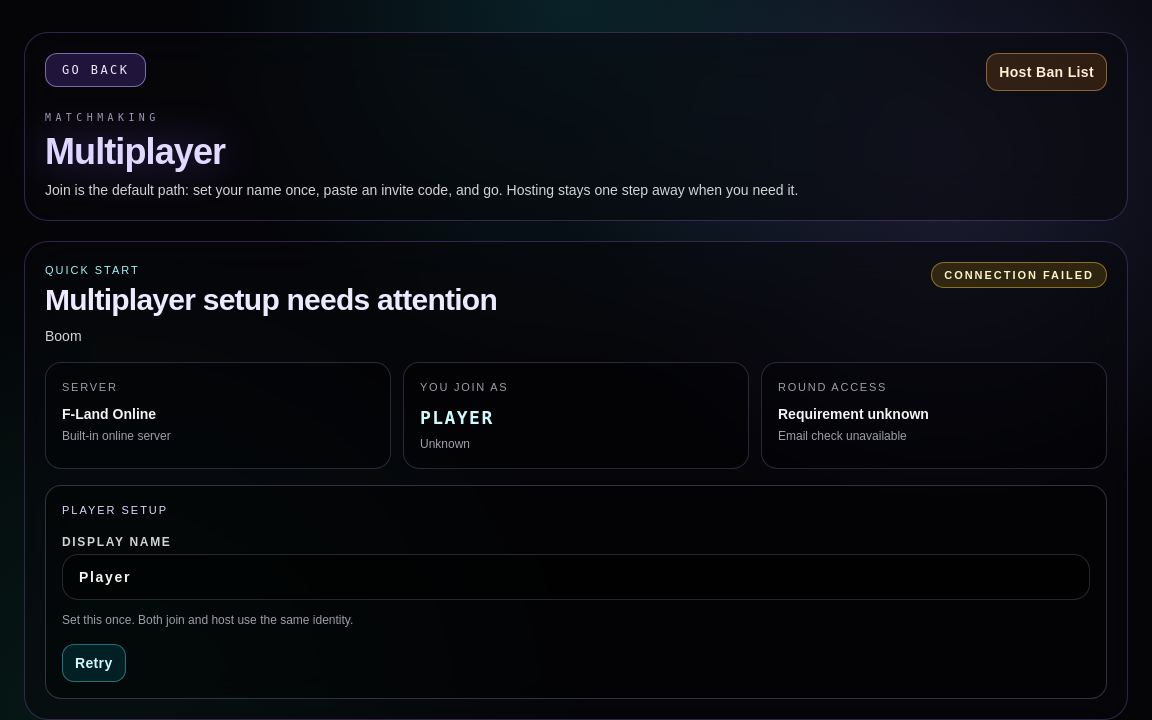
Test case: MultiplayerRoute › shows retry after auth failure and retries bootstrap
Expected: the text "Boom" is shown, [45,328,82,344]
Click the button "Retry".
click(94, 663)  # box [62,644,126,682]
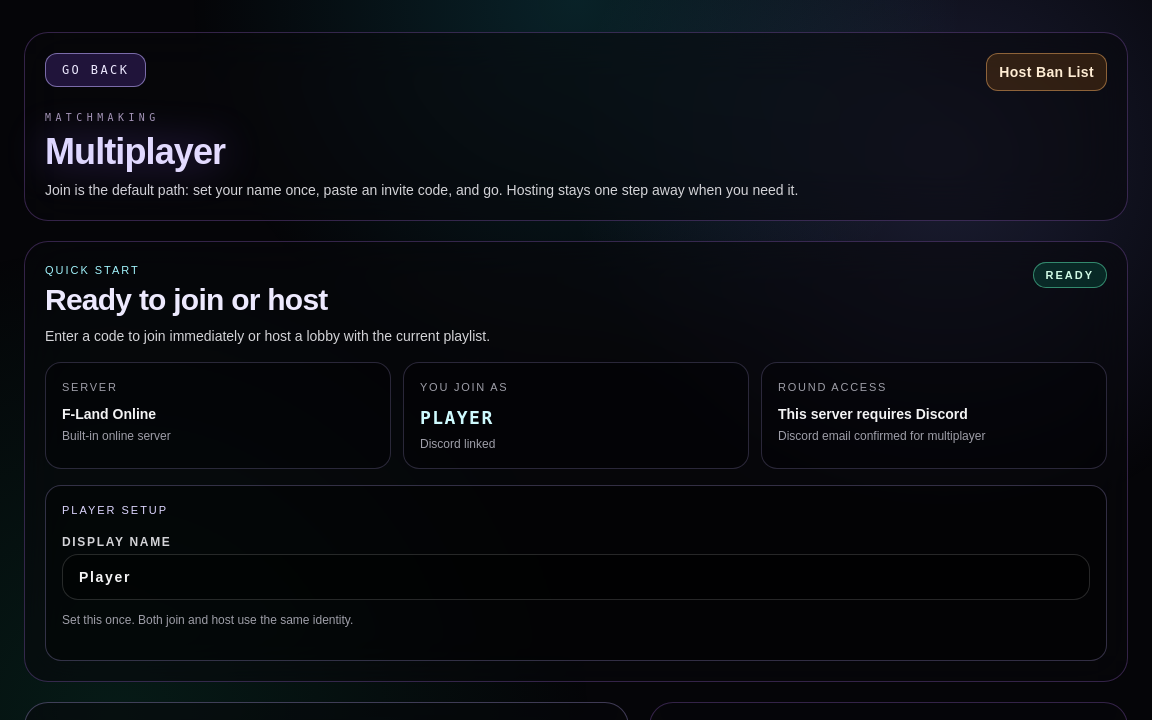
Now the text "Ready" is shown, box [1033,262,1107,288]
